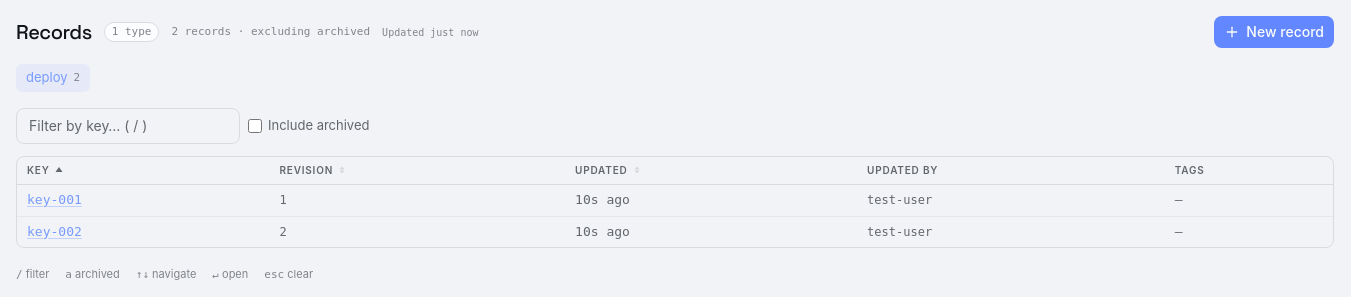
Test case: RecordsPage list › including archived is sent and stated
The width and height of the screenshot is (1351, 297).
expect the text "2 records · excluding archived" is shown: met, box left=171, top=24, right=370, bottom=40
Click the checkbox labelled "Include archived".
click(255, 126)  # box left=248, top=118, right=262, bottom=132
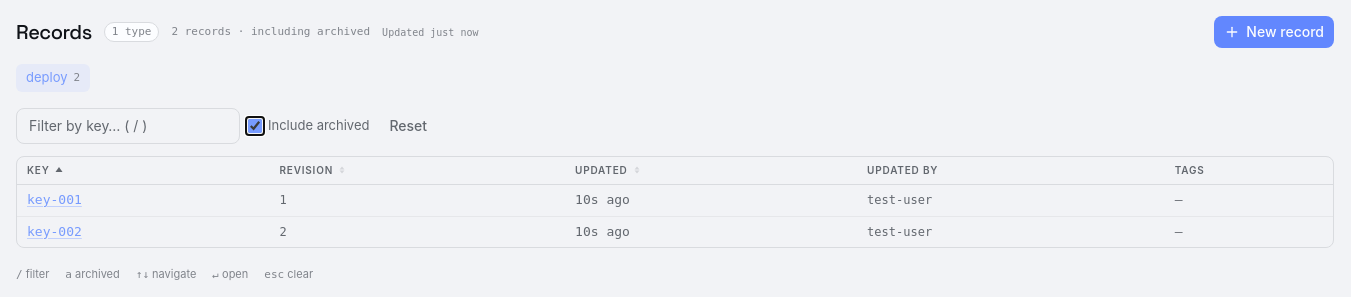
expect the text "2 records · including archived" is shown: met, box left=171, top=24, right=370, bottom=40
